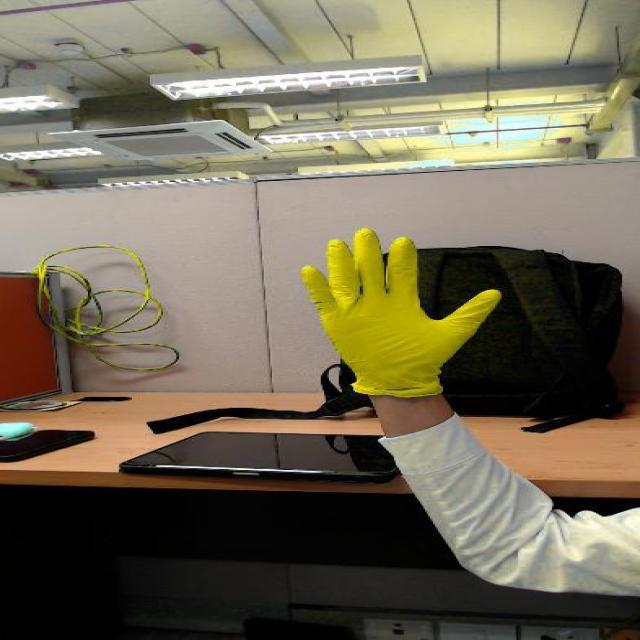gloved_hand: (288, 221, 523, 364)
